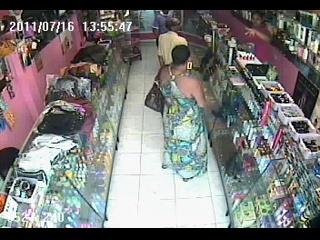Normal: (156, 45, 216, 181), (157, 18, 189, 67), (144, 80, 166, 113)
